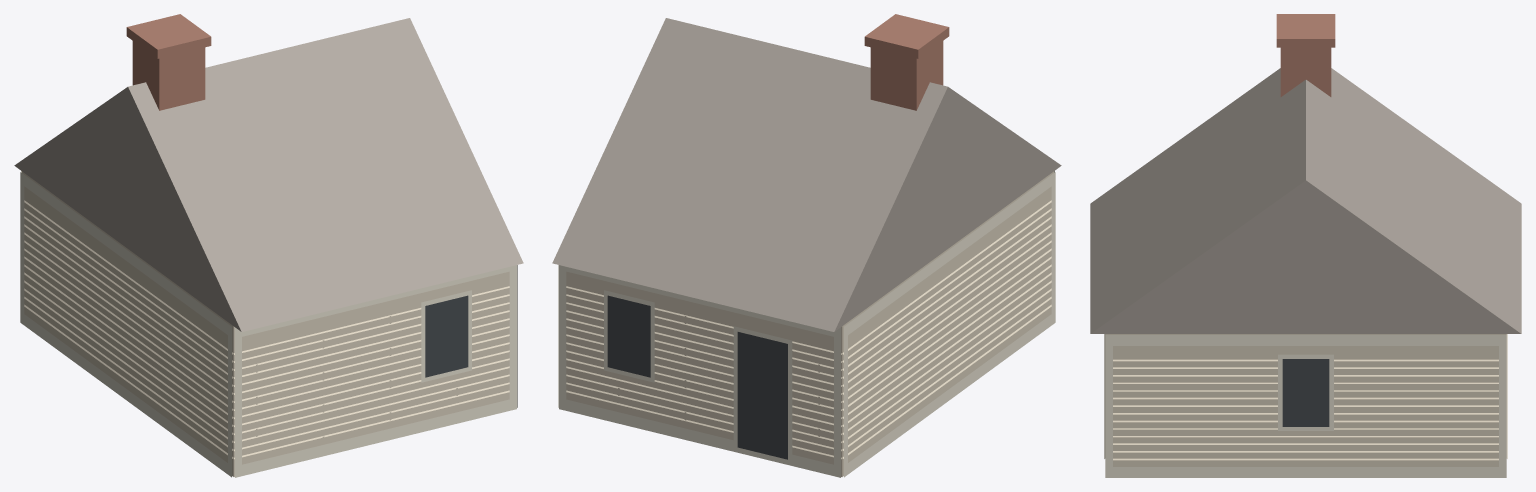
File: recon_1835_blk_randolph_dearborn_d3_11__inferred_1835.glb
3 renders of one model, left to right at view 1: azimuth 30°, elevation 25°; view 2: azimuth 150°, elevation 25°; view 3: azimuth 270°, elevation 25°, orthographic. The views are drawn at different scales.
Parts seen in each view (by area): view 1: recon_1835_blk_randolph_dearborn_d3_11__inferred_1835; view 2: recon_1835_blk_randolph_dearborn_d3_11__inferred_1835; view 3: recon_1835_blk_randolph_dearborn_d3_11__inferred_1835.
Boxes of the visible parts, <box> form: recon_1835_blk_randolph_dearborn_d3_11__inferred_1835: <box>14,14,523,477</box>; recon_1835_blk_randolph_dearborn_d3_11__inferred_1835: <box>552,14,1061,477</box>; recon_1835_blk_randolph_dearborn_d3_11__inferred_1835: <box>1090,14,1521,477</box>.
Bounding box in the file's own units: 5.23 × 6.24 × 7.19.
